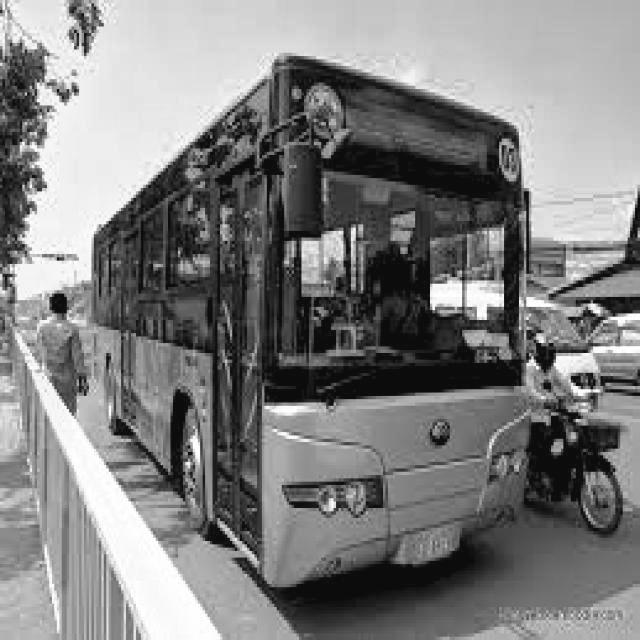Bus: (63, 39, 544, 598)
